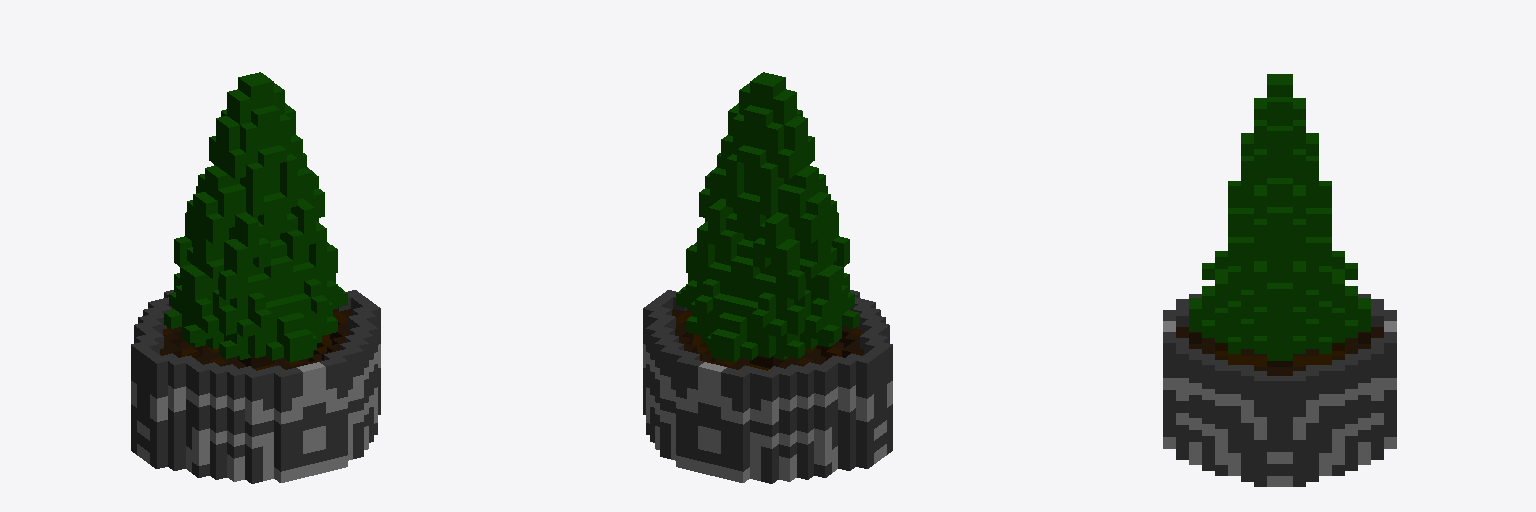
The picture shows the model from 3 angles: view 1: azimuth 30°, elevation 25°; view 2: azimuth 150°, elevation 25°; view 3: azimuth 270°, elevation 25°; orthographic projection.
Parts seen in each view (by area): view 1: Model; view 2: Model; view 3: Model.
Part boxes in pixels (bbox=[...]): Model: bbox=[131, 72, 380, 483]; Model: bbox=[643, 72, 892, 483]; Model: bbox=[1163, 74, 1396, 486].
Size of the model in its own units: 21.33 by 32 by 19.2.
Materials: 1 (1 with a texture image).